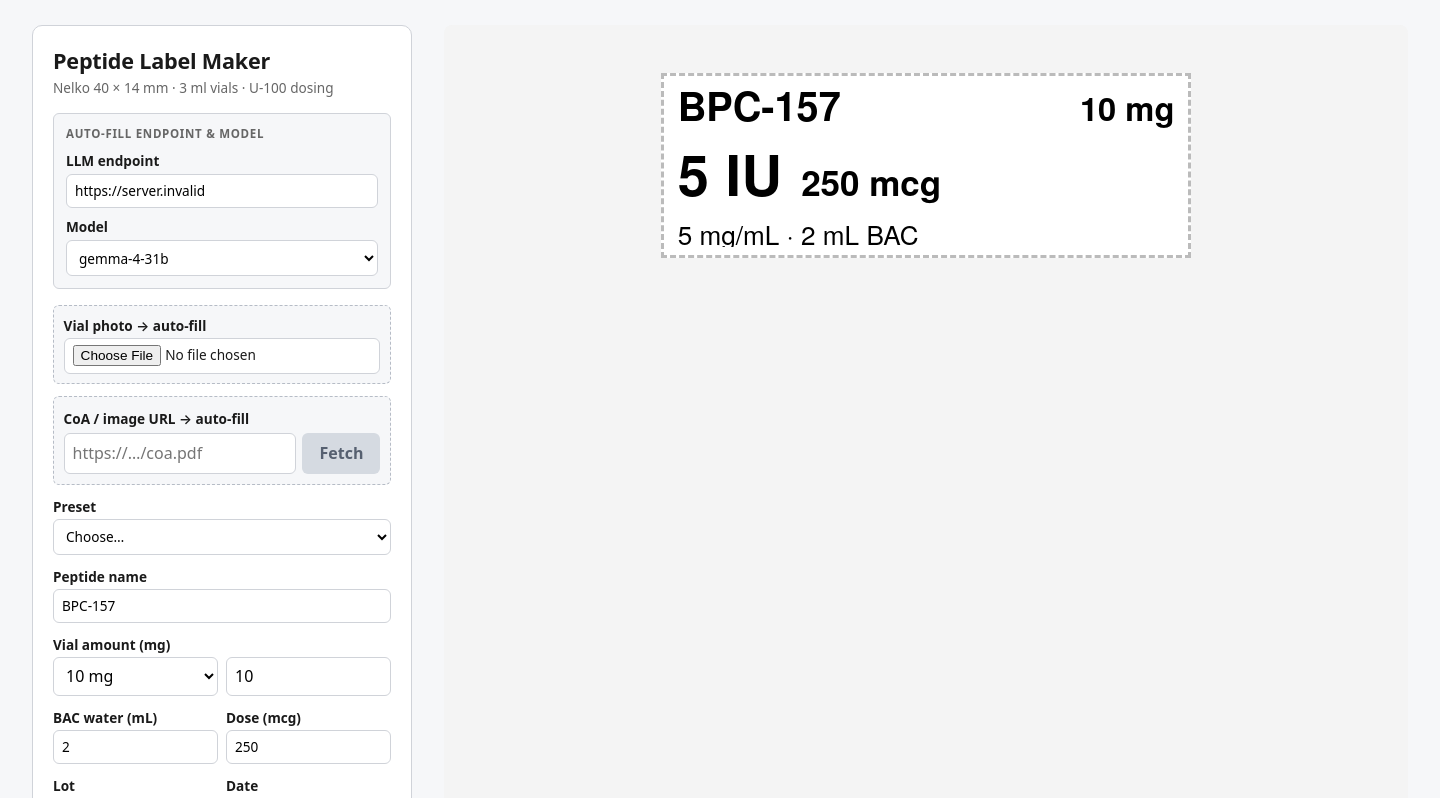
App › surfaces an error when the URL fetch fails
Type "https://coa.vendor.com/missing.pdf" into the field named "CoA / image URL → auto-fill" at (180, 454), box [64,433,296,474]
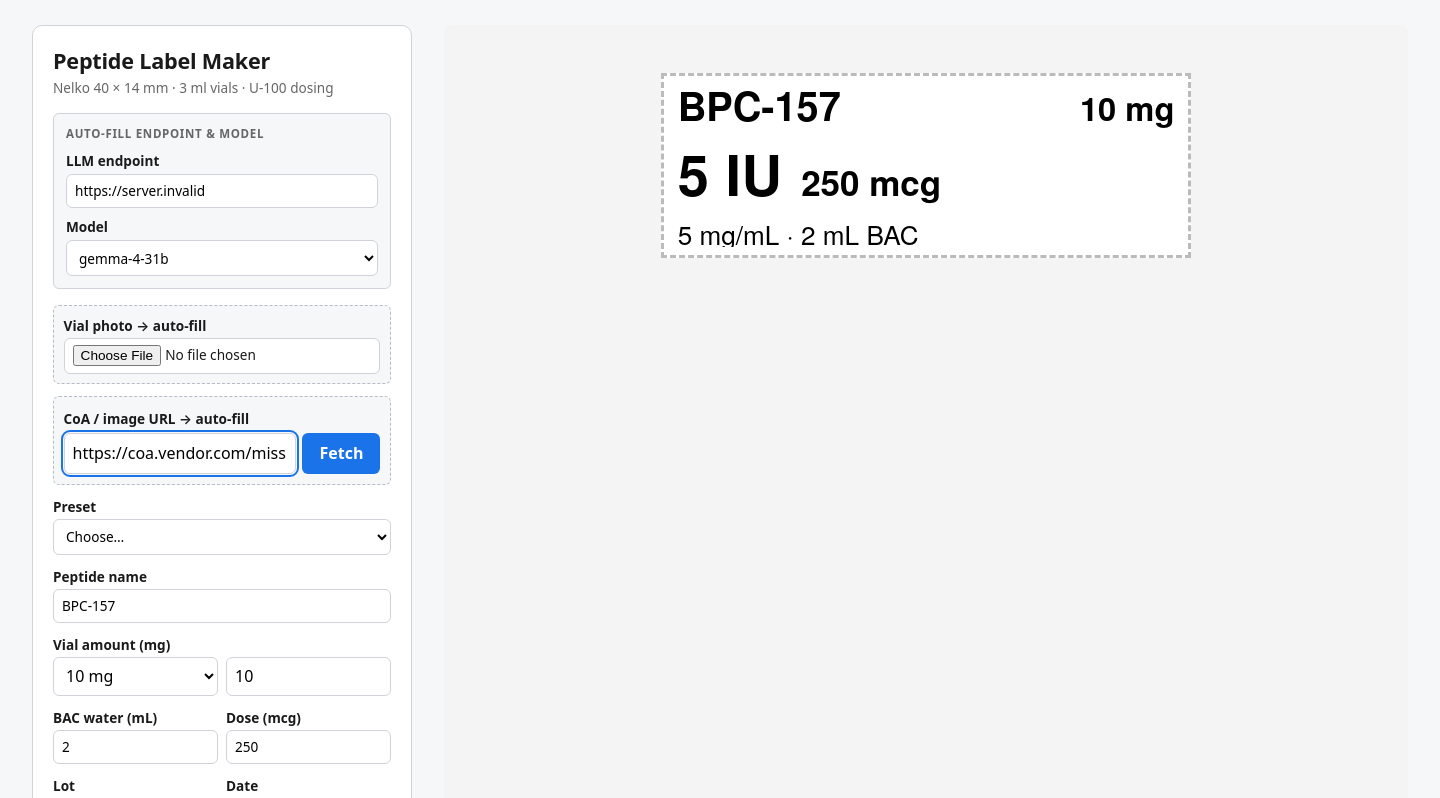
Click the button "Fetch" at (341, 454), box [302,433,380,474]
(page scrolled)
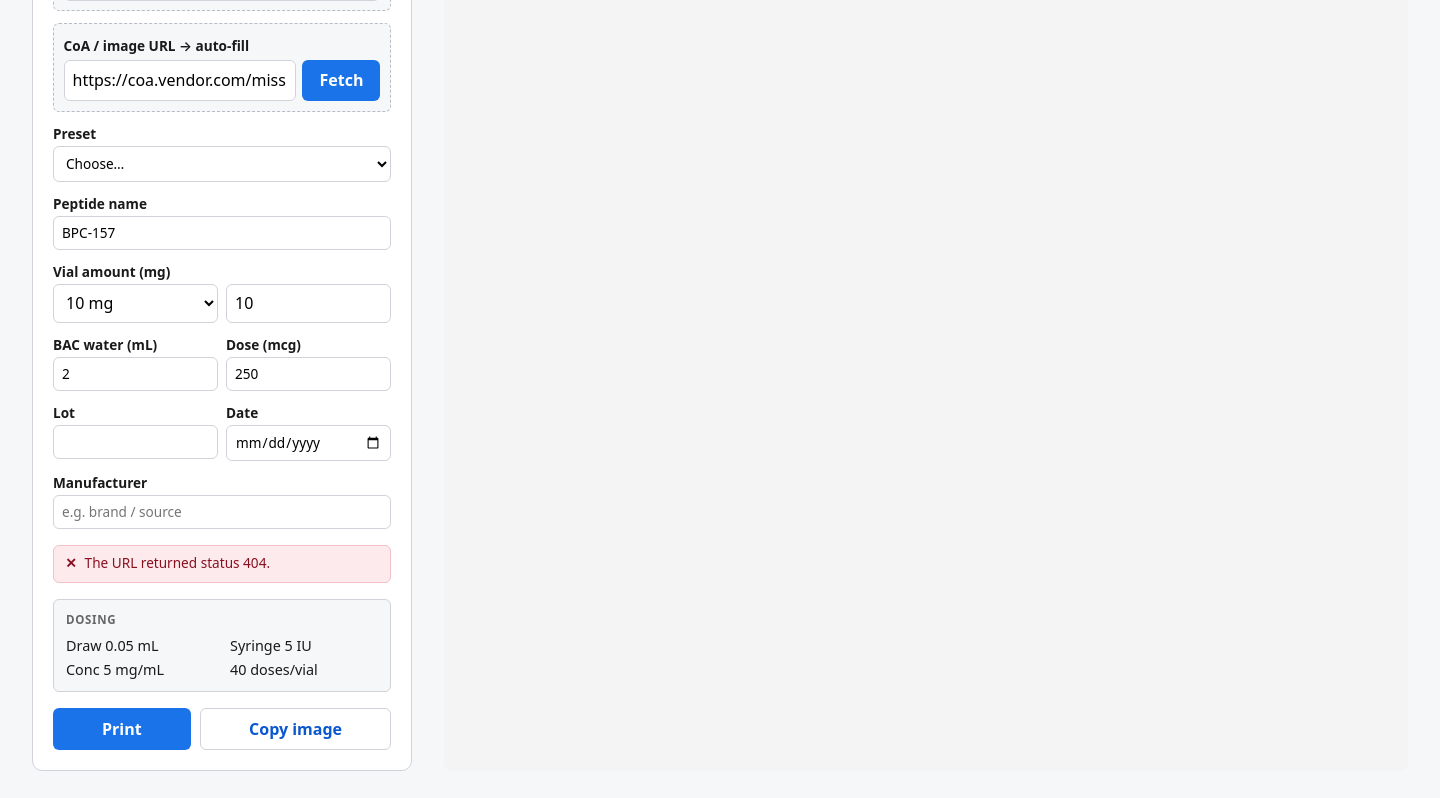
Expected: the button "Print" is enabled, [53,708,190,750]
Expected: the text "The URL returned status 404." is shown, [85,554,270,573]
